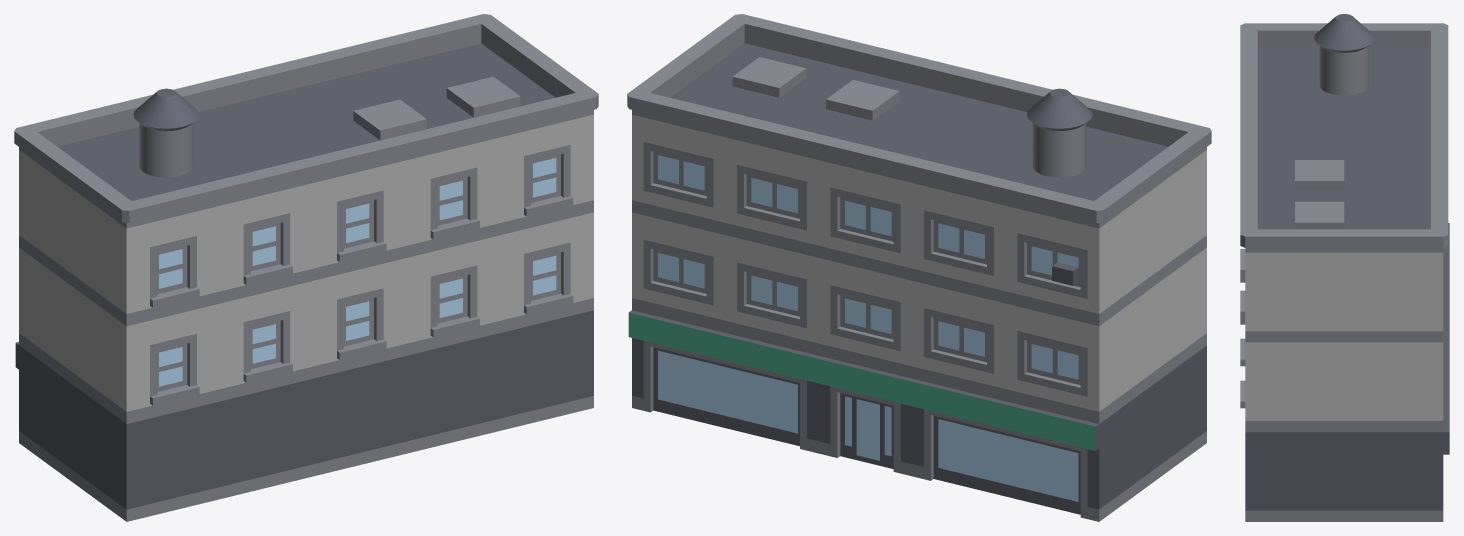
Rendered from large_buildingF.obj.
3 renders of one model, left to right at view 1: azimuth 30°, elevation 25°; view 2: azimuth 150°, elevation 25°; view 3: azimuth 270°, elevation 25°, orthographic. The views are drawn at different scales.
Parts seen in each view (by area): view 1: large_buildingF; view 2: large_buildingF; view 3: large_buildingF.
Part boxes in pixels (box(x1,y1,x2,y2)): large_buildingF: box(14, 14, 598, 521); large_buildingF: box(627, 14, 1211, 521); large_buildingF: box(1240, 14, 1449, 521).
Size of the model in its own units: 2.04 by 1.5 by 0.845.
